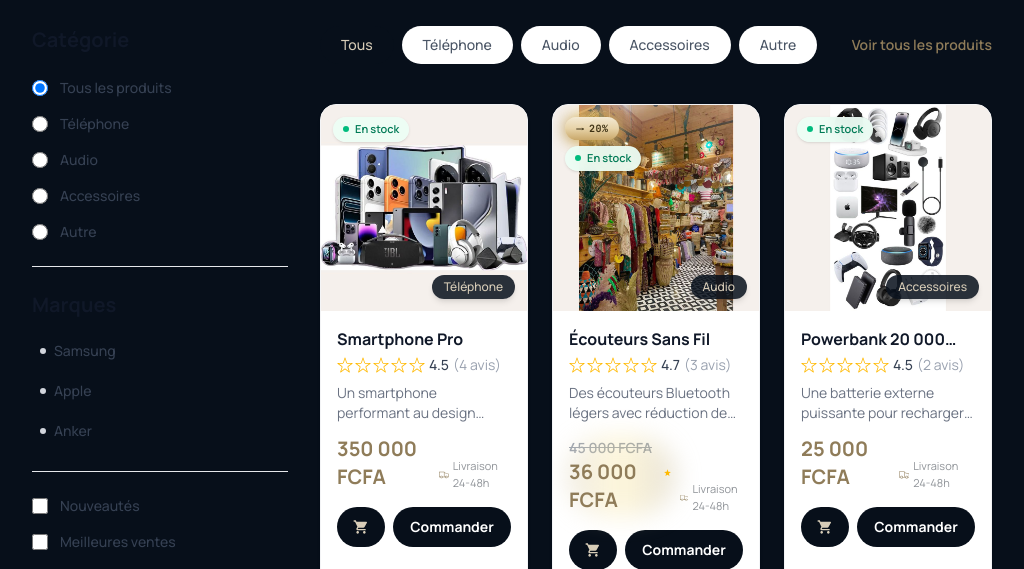
Scenario: ProductGrid › revient à l'affichage complet en recliquant sur « Tous »
This screenshot has width=1024, height=569.
Click the button "Audio": (561, 45) [521,26,601,64]
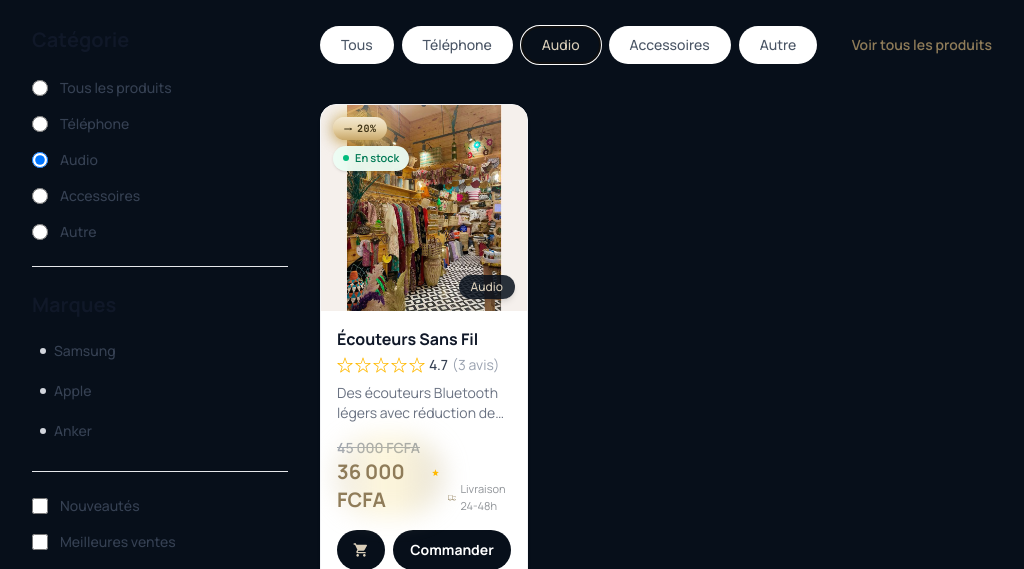
Click the button "Tous": (357, 45) [320,26,394,64]
(page scrolled)
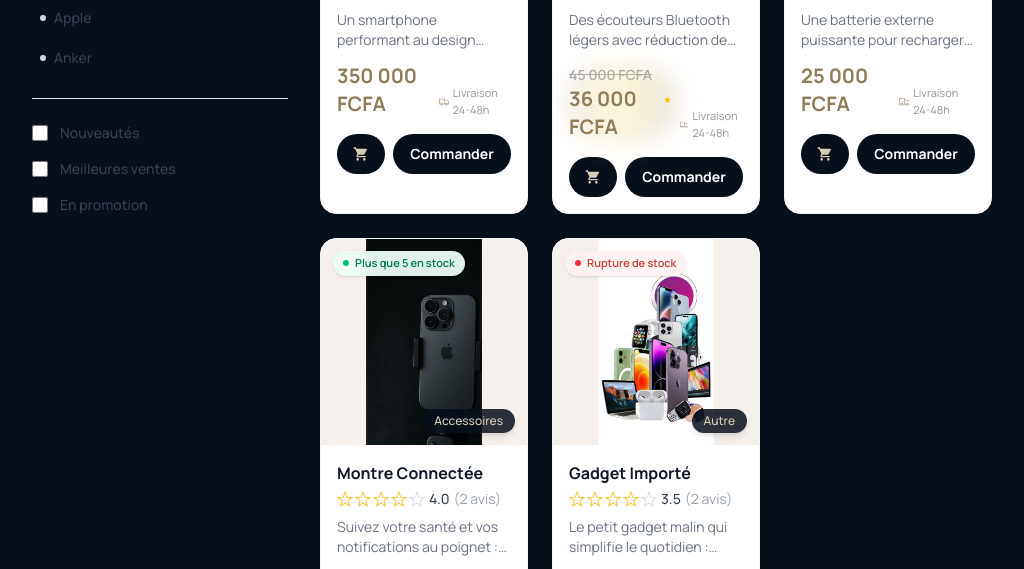
Expected: the heading "Montre Connectée" is shown, [337,462,483,484]
Expected: the heading "Gadget Importé" is shown, [569,462,691,484]
